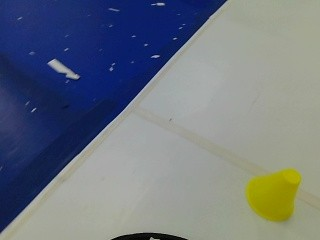cone: (245, 161, 301, 223)
